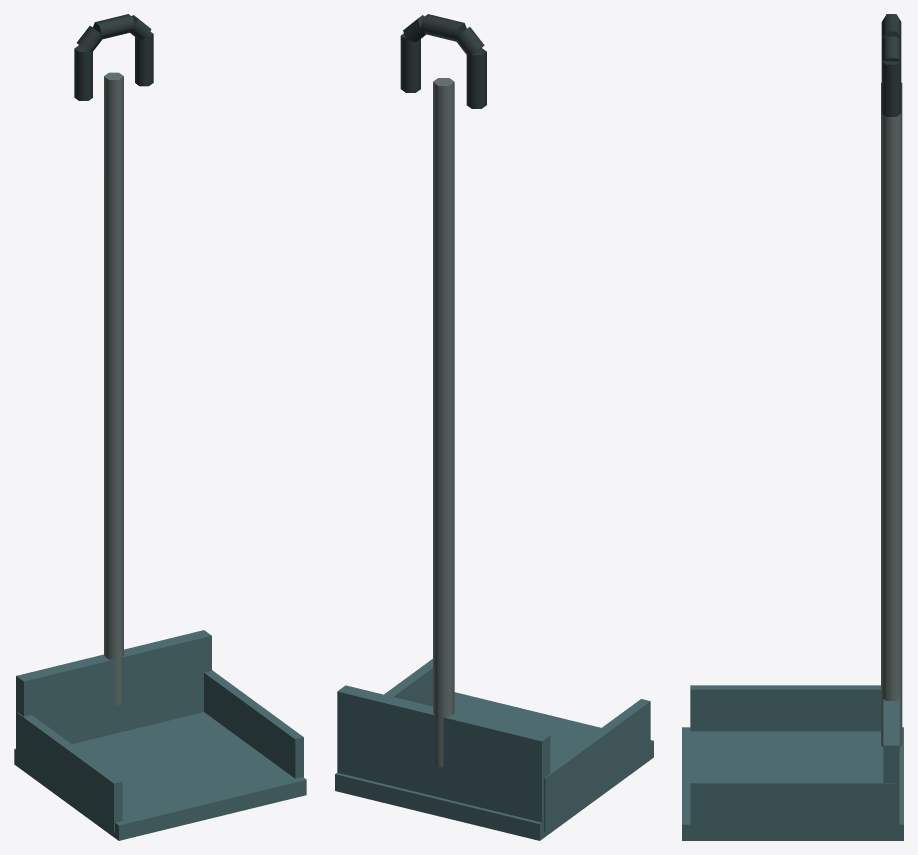
The picture shows the model from 3 angles, left to right: view 1: azimuth 30°, elevation 25°; view 2: azimuth 150°, elevation 25°; view 3: azimuth 270°, elevation 25°; orthographic projection. The views are drawn at different scales.
Visible parts, largest first — view 1: part-1, part-2, part-5, part-3, part-4, part-6, part-10, part-8; view 2: part-2, part-5, part-1, part-3, part-4, part-6, part-10, part-8; view 3: part-5, part-1, part-4, part-3, part-2, part-10, part-9, part-8.
Boxes of the visible parts, <box> form: part-1: <box>14,712,306,840</box>; part-2: <box>16,630,211,760</box>; part-5: <box>104,72,123,704</box>; part-3: <box>17,712,122,832</box>; part-4: <box>204,670,303,778</box>; part-6: <box>74,45,92,100</box>; part-10: <box>135,32,153,86</box>; part-8: <box>92,14,135,39</box>; part-2: <box>337,685,550,822</box>; part-5: <box>433,78,454,767</box>; part-1: <box>335,692,653,840</box>; part-3: <box>544,699,650,831</box>; part-4: <box>384,659,432,706</box>; part-6: <box>466,48,486,108</box>; part-10: <box>400,33,420,92</box>; part-8: <box>420,14,466,41</box>; part-5: <box>881,82,902,746</box>; part-1: <box>682,727,903,840</box>; part-4: <box>690,779,895,835</box>; part-3: <box>690,685,880,731</box>; part-2: <box>883,699,899,828</box>; part-10: <box>881,61,901,116</box>; part-9: <box>881,36,901,61</box>; part-8: <box>881,14,901,38</box>.
Size of the model in its own units: 0.283 by 1.03 by 0.27.
